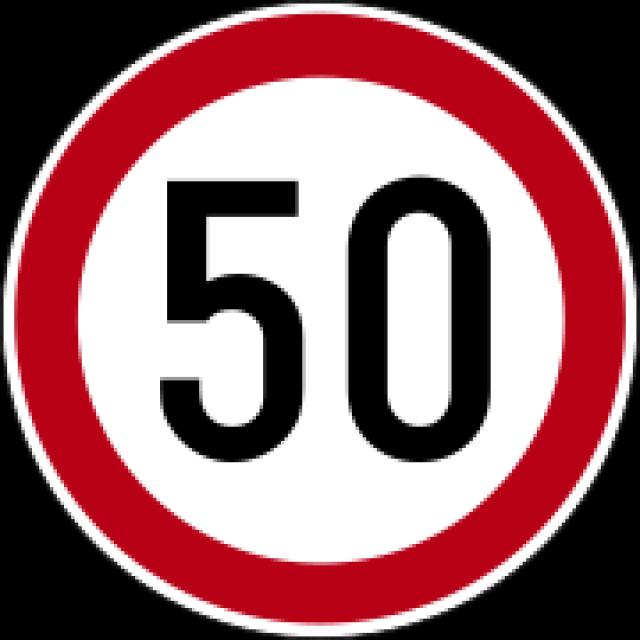Speed Limit -50-: (144, 161, 503, 470)
